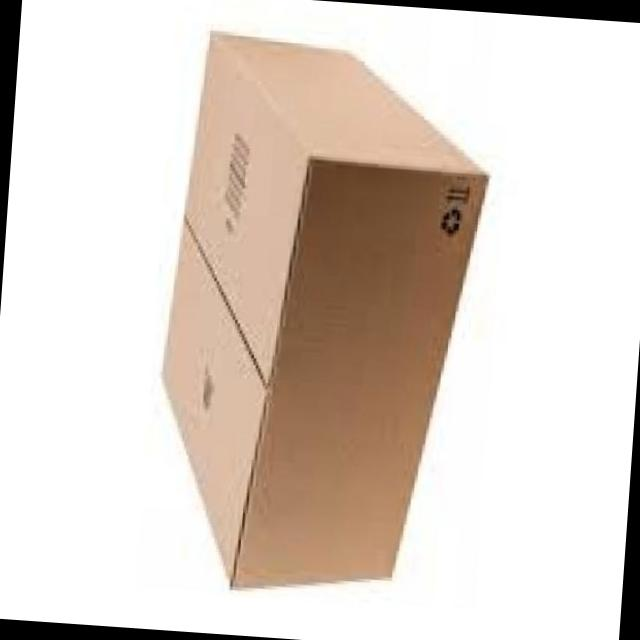cardboard paper: (161, 35, 483, 587)
